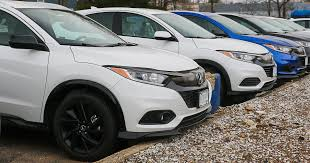car: (1, 1, 214, 158), (77, 7, 278, 96), (173, 9, 310, 73)
